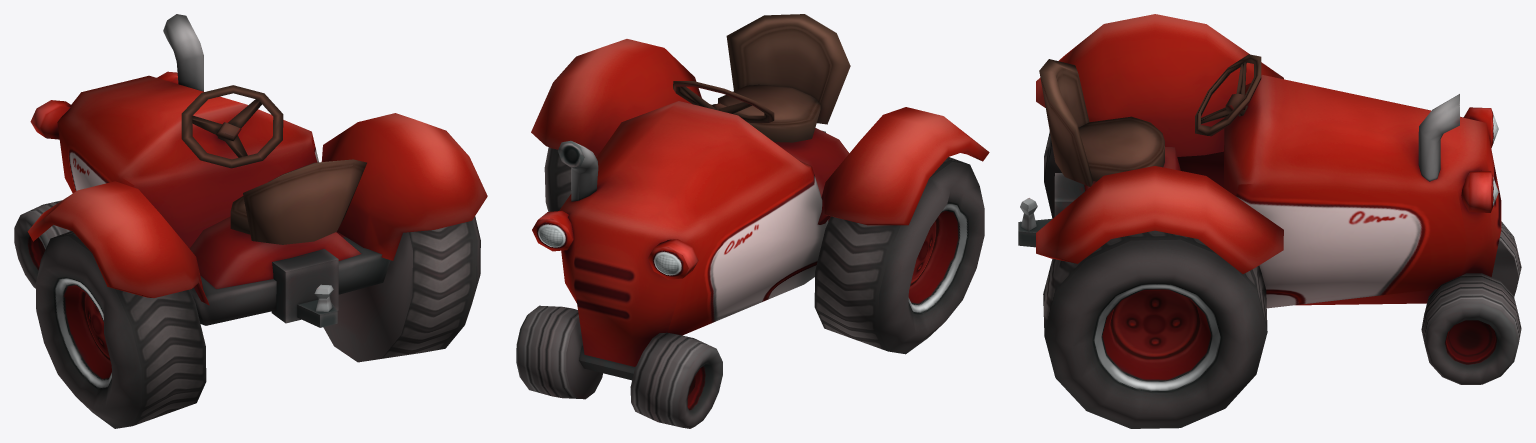
File: tractor.obj
3 renders of one model, left to right at view 1: azimuth 30°, elevation 25°; view 2: azimuth 150°, elevation 25°; view 3: azimuth 270°, elevation 25°, orthographic. The views are drawn at different scales.
Visible parts, largest first — view 1: farm_barn_farm_barn_mesh.018; view 2: farm_barn_farm_barn_mesh.018; view 3: farm_barn_farm_barn_mesh.018.
Part boxes in pixels (<box>): farm_barn_farm_barn_mesh.018: <box>14,14,487,428</box>; farm_barn_farm_barn_mesh.018: <box>516,14,989,428</box>; farm_barn_farm_barn_mesh.018: <box>1018,14,1521,428</box>.
Size of the model in its own units: 44.29 by 28.23 by 45.01.
